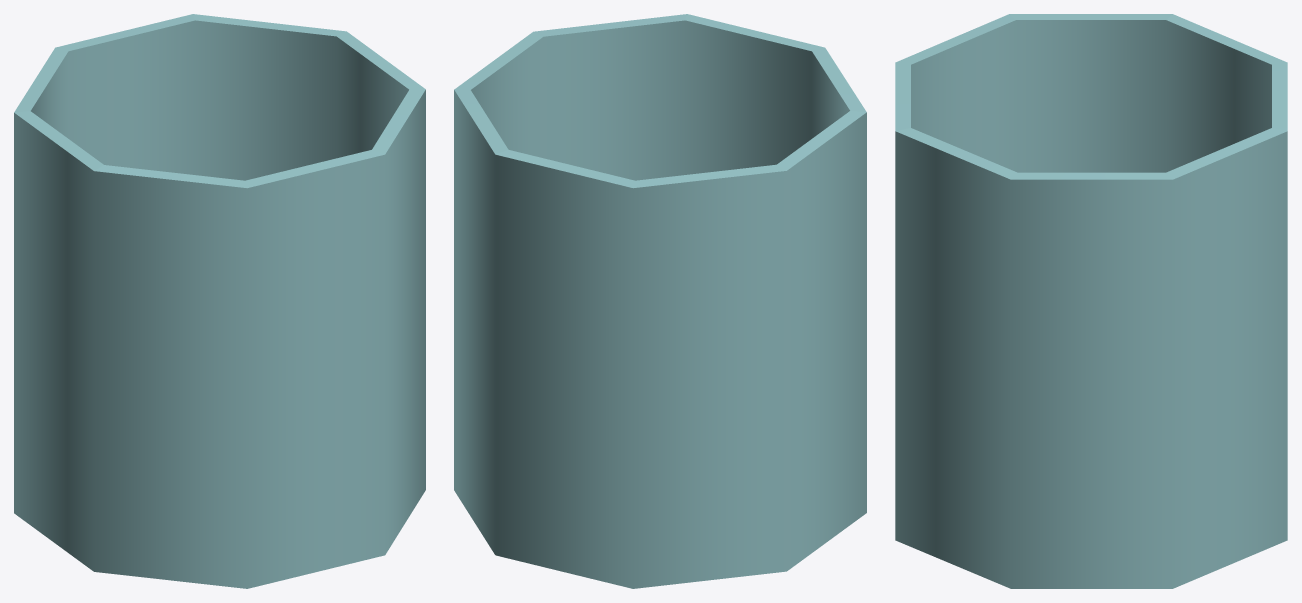
The model's file is Itr_Lamp_Cap2_06.FBX.
3 renders of one model, left to right at view 1: azimuth 30°, elevation 25°; view 2: azimuth 150°, elevation 25°; view 3: azimuth 270°, elevation 25°, orthographic. The views are drawn at different scales.
Parts seen in each view (by area): view 1: Itr_Lamp_Cap2_06; view 2: Itr_Lamp_Cap2_06; view 3: Itr_Lamp_Cap2_06.
Part boxes in pixels (x1,y1,x2,y2): Itr_Lamp_Cap2_06: (14,14,425,588); Itr_Lamp_Cap2_06: (454,14,866,588); Itr_Lamp_Cap2_06: (895,14,1287,588).
Size of the model in its own units: 7.69 by 8.87 by 7.69.
